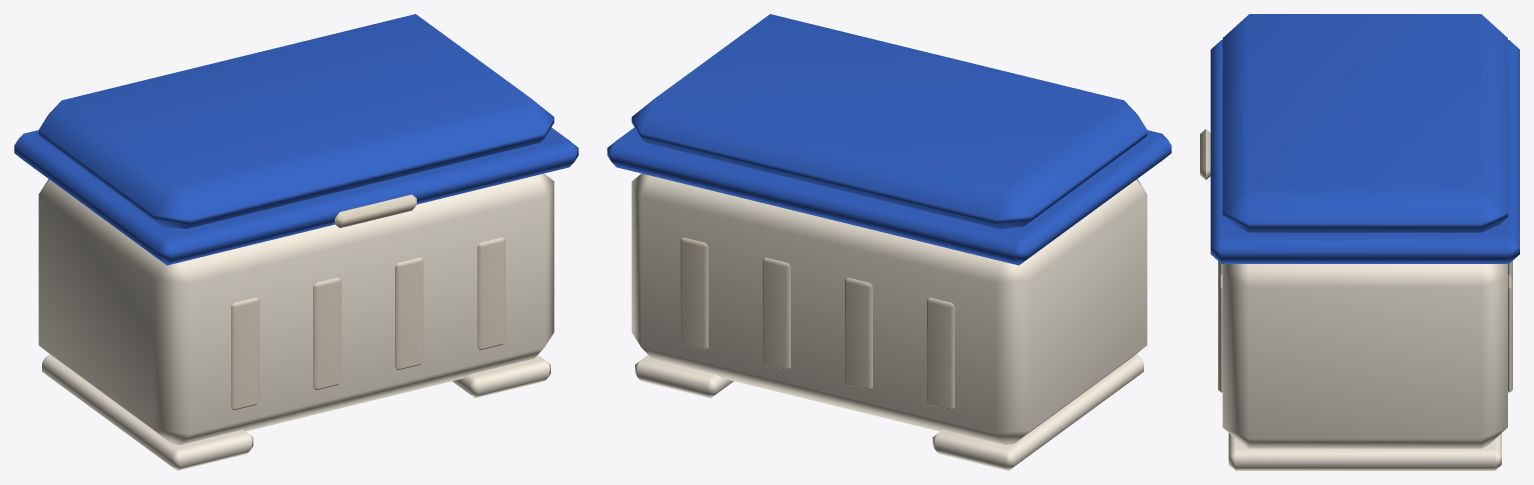
File: toy_box.glb
The picture shows the model from 3 angles, left to right: view 1: azimuth 30°, elevation 25°; view 2: azimuth 150°, elevation 25°; view 3: azimuth 270°, elevation 25°; orthographic projection.
Visible parts, largest first — view 1: model; view 2: model; view 3: model.
Part boxes in pixels (<box>): model: <box>14,14,578,470</box>; model: <box>607,14,1171,470</box>; model: <box>1200,14,1519,470</box>.
Bounding box in the file's own units: 0.82 × 0.52 × 0.538.
